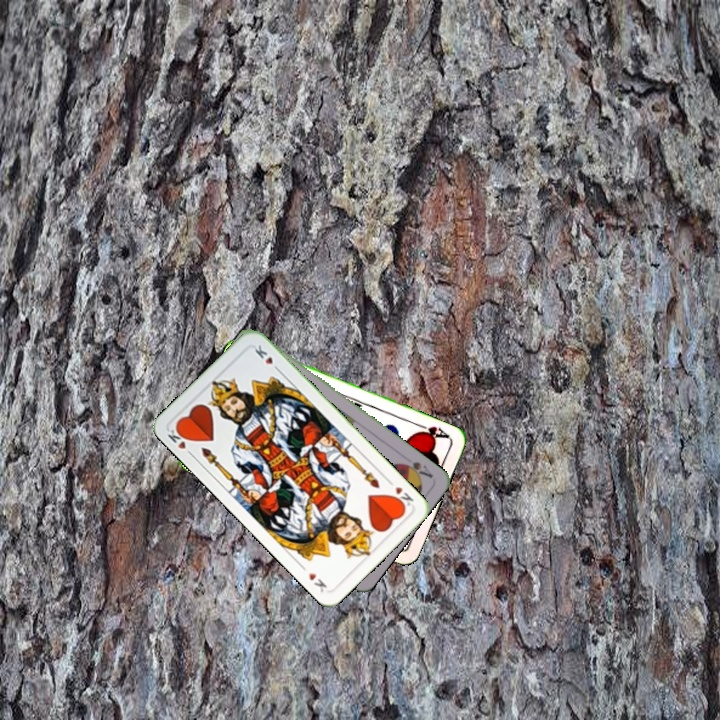HA: (413, 420, 452, 442)
HK: (163, 422, 196, 459), (389, 482, 416, 511)
SA: (397, 457, 436, 481)
